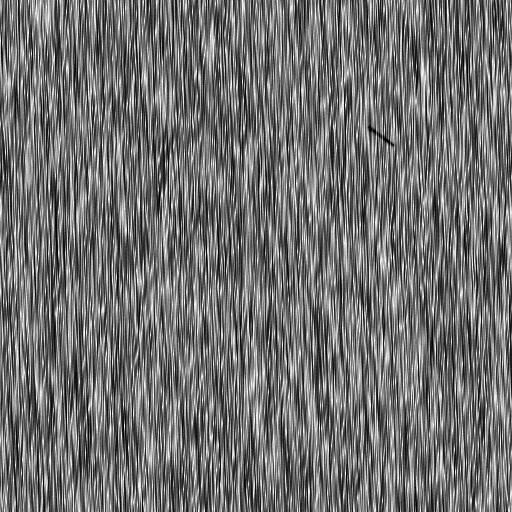DefectTypeC: (365, 125, 397, 148)
